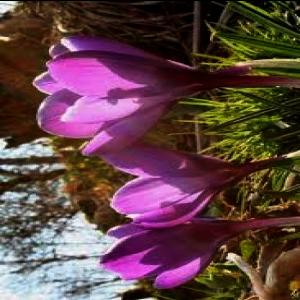Saffron: (36, 36, 212, 154), (104, 138, 245, 228), (98, 210, 244, 285)
